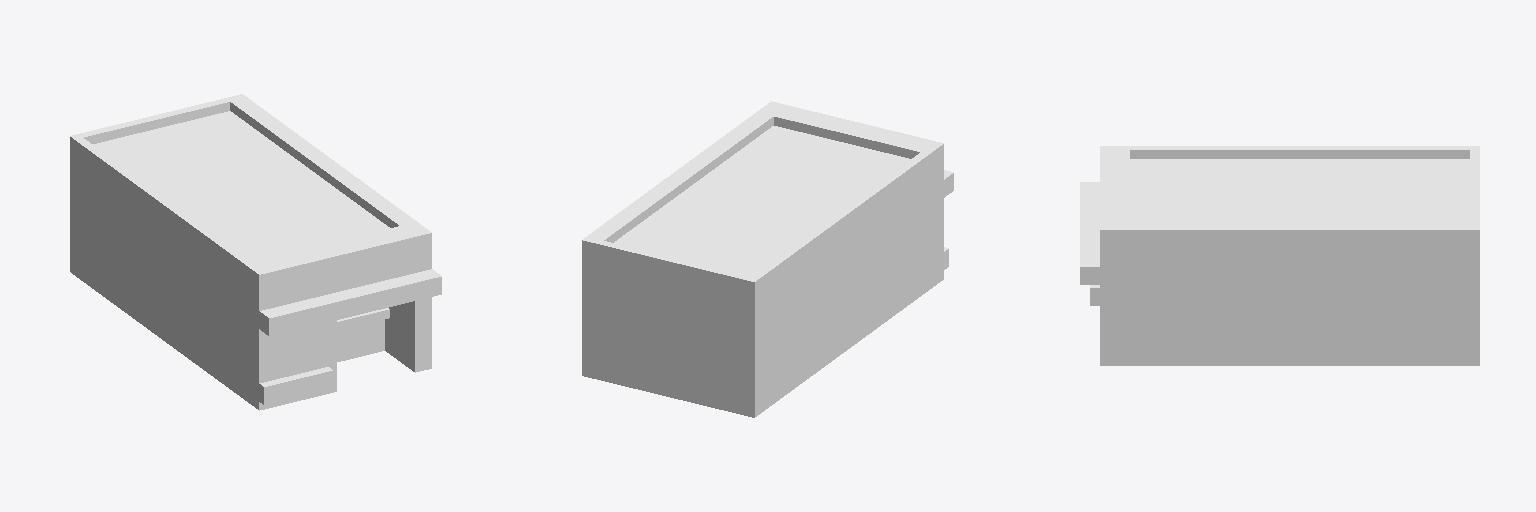
Rendered from store2.obj.
3 views of the same model, side by side, from view 1: azimuth 30°, elevation 25°; view 2: azimuth 150°, elevation 25°; view 3: azimuth 270°, elevation 25° (orthographic).
Size of the model in its own units: 20 by 15 by 40.